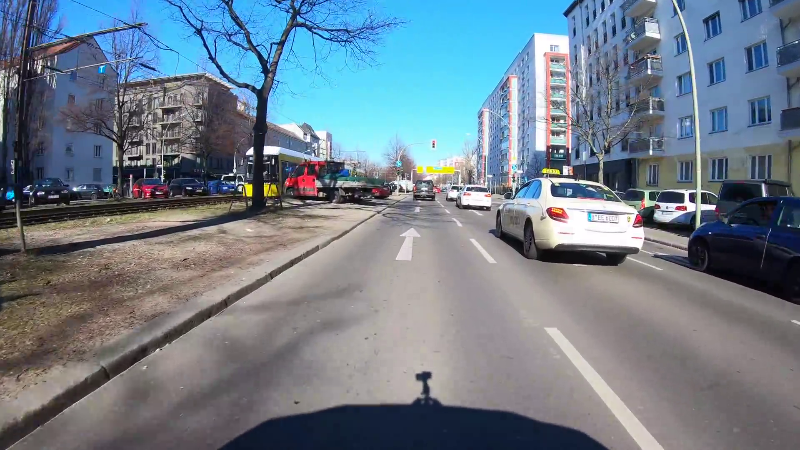Plate: (586, 210, 623, 224)
